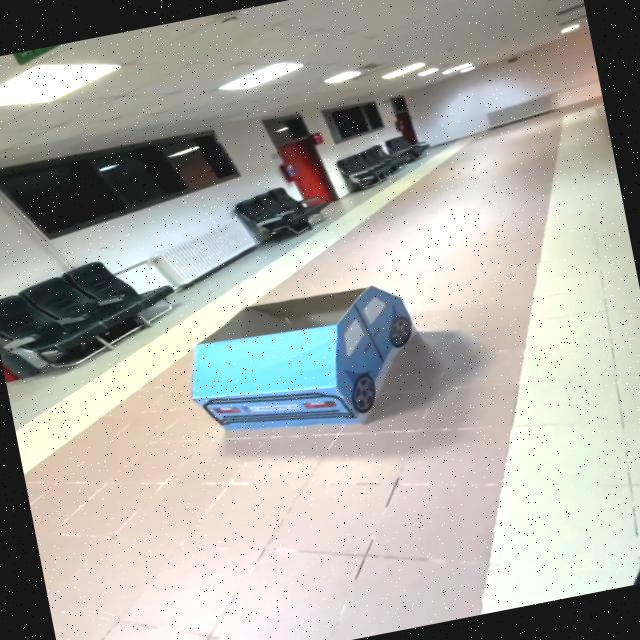blue_car: (131, 244, 469, 482)
